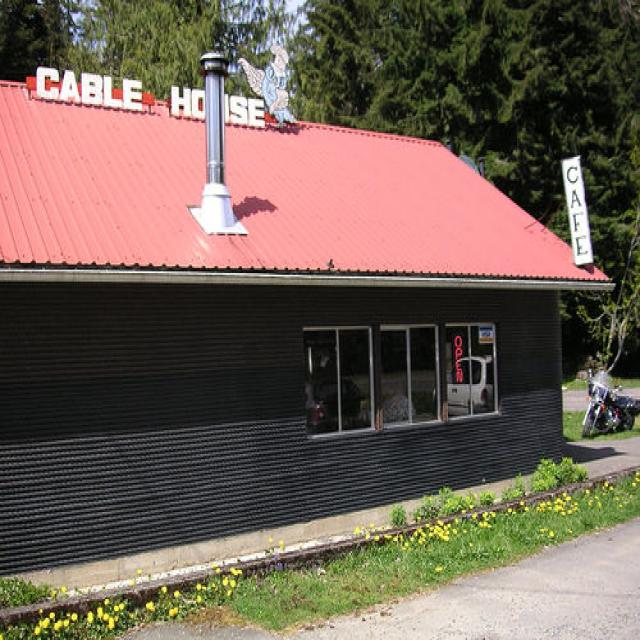car: (435, 354, 499, 421), (308, 372, 361, 435)
motorbike: (582, 373, 640, 440)
